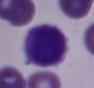L: (22, 22, 70, 66)
